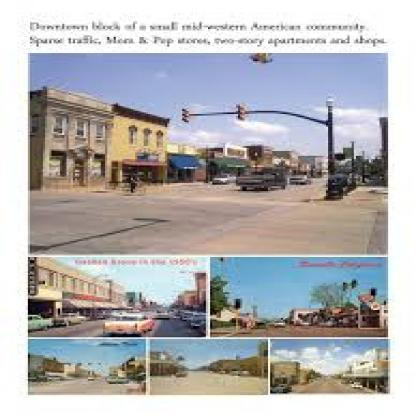car: (92, 305, 160, 344), (224, 168, 292, 196), (48, 303, 84, 334), (286, 163, 312, 193), (30, 309, 52, 340), (96, 370, 131, 389), (210, 176, 238, 184)
